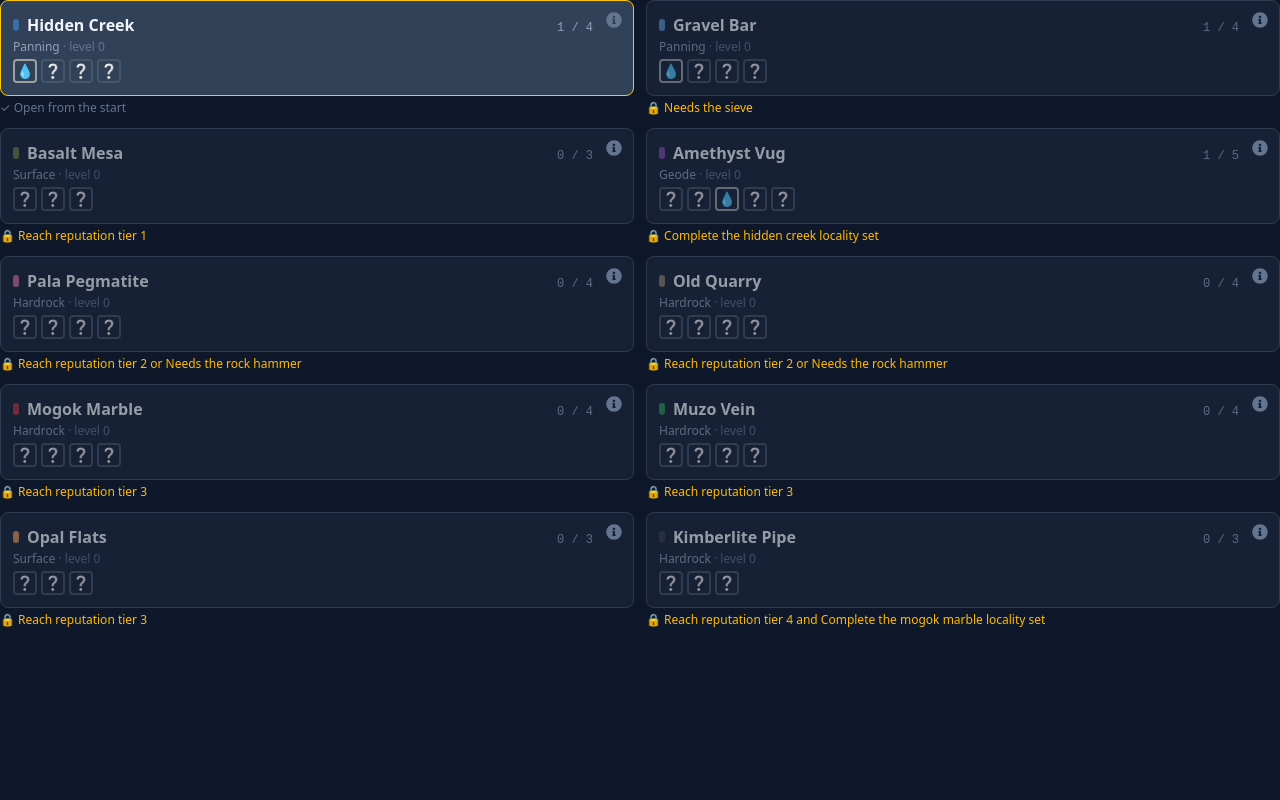
it: LocalityMap › closes the field guide again
Click the button named "Hidden Creek field guide" at (614, 20), box [602,8,626,32]
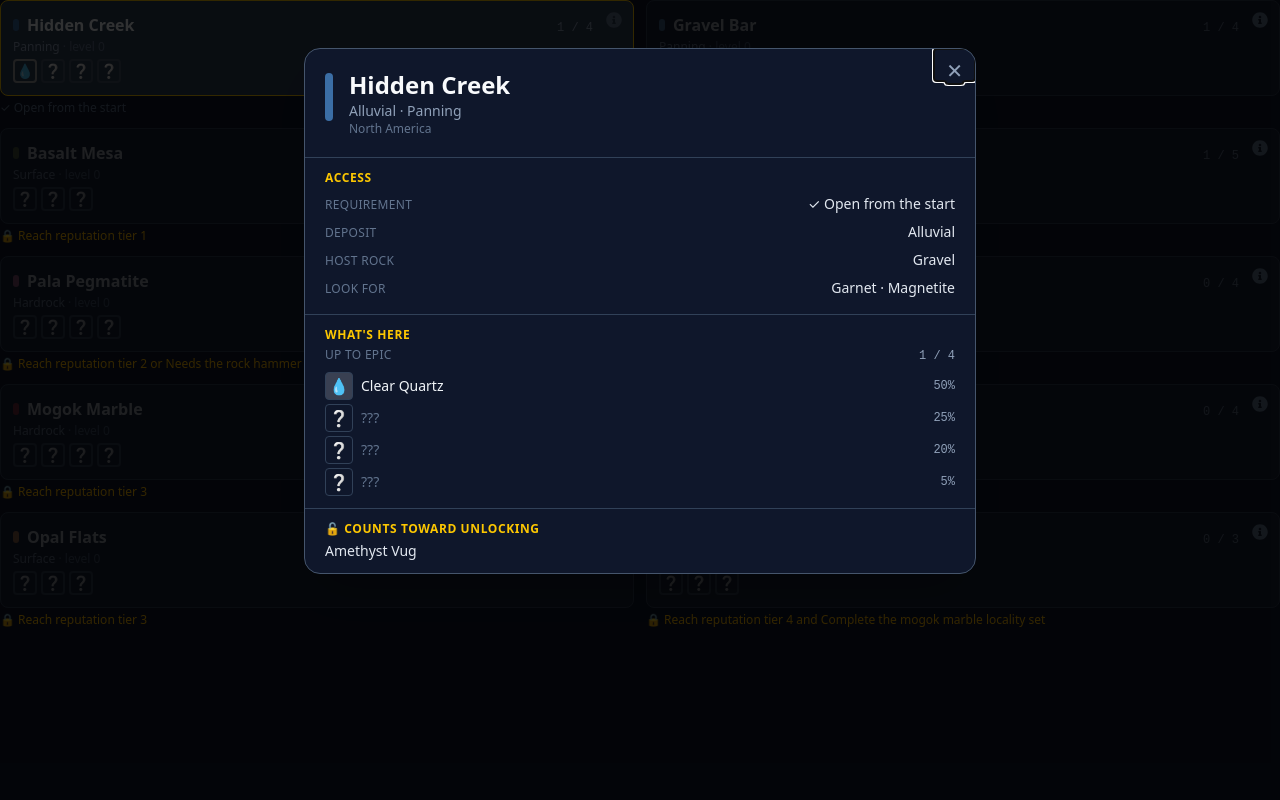
Click the button named "close entry" at (955, 65), box [934,49,975,81]
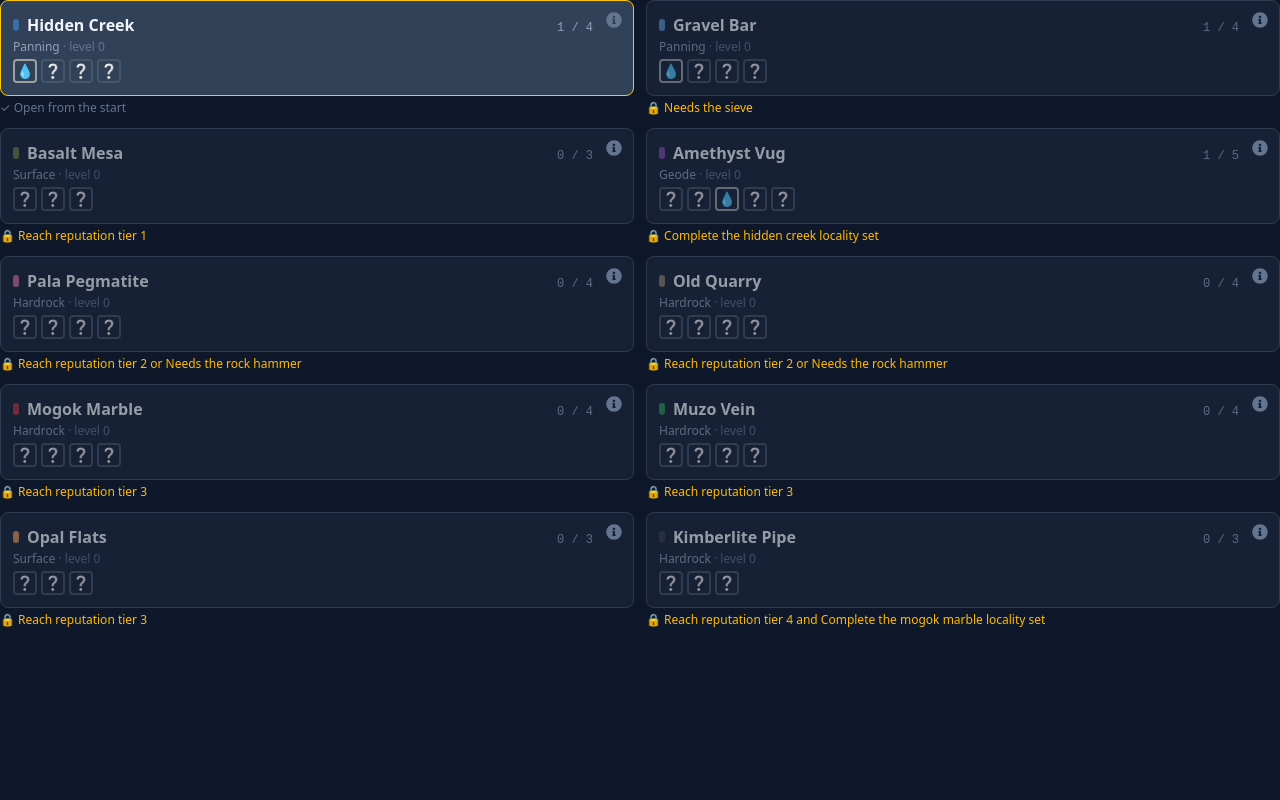
expect the dialog is gone: met
